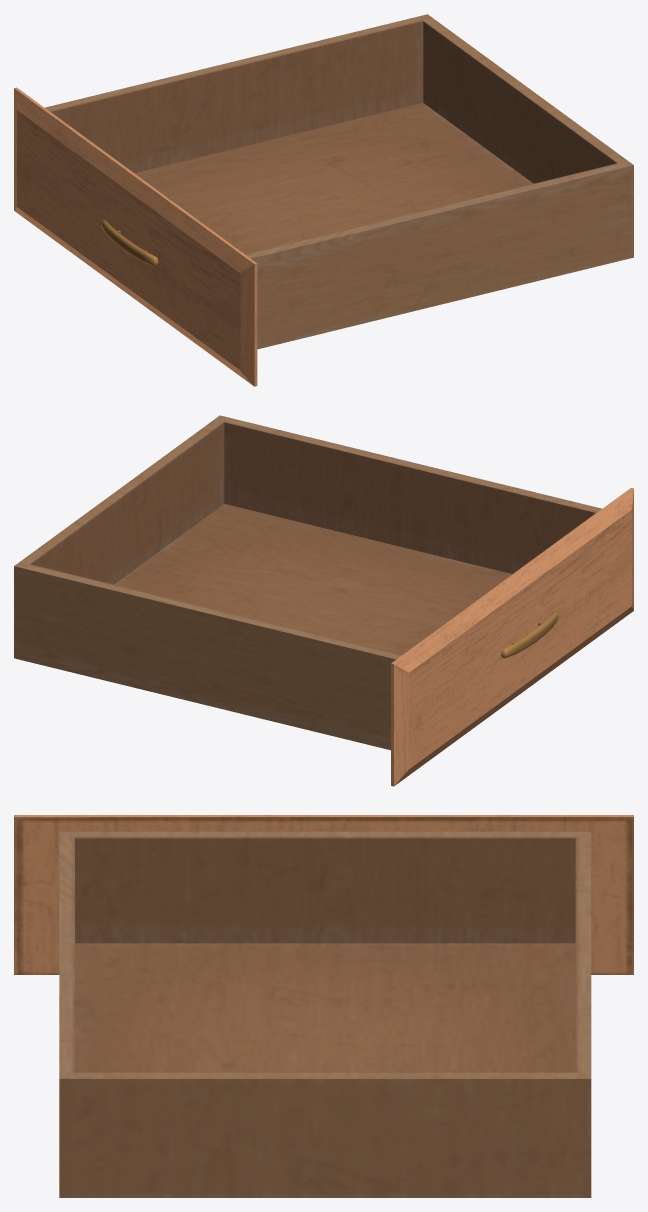
File: SM_BathShelf_A1_DoorD.fbx
The picture shows the model from 3 angles, top to bottom: view 1: azimuth 30°, elevation 25°; view 2: azimuth 150°, elevation 25°; view 3: azimuth 270°, elevation 25°; orthographic projection. The views are drawn at different scales.
Visible parts, largest first — view 1: SM_BathShelf_A1_DoorD; view 2: SM_BathShelf_A1_DoorD; view 3: SM_BathShelf_A1_DoorD.
Boxes of the visible parts, left/top/right/bottom form: SM_BathShelf_A1_DoorD: left=14, top=14, right=633, bottom=386; SM_BathShelf_A1_DoorD: left=14, top=415, right=633, bottom=786; SM_BathShelf_A1_DoorD: left=14, top=815, right=633, bottom=1197.
Size of the model in its own units: 70.09 by 70.37 by 19.79.
3 materials, 3 textured.
